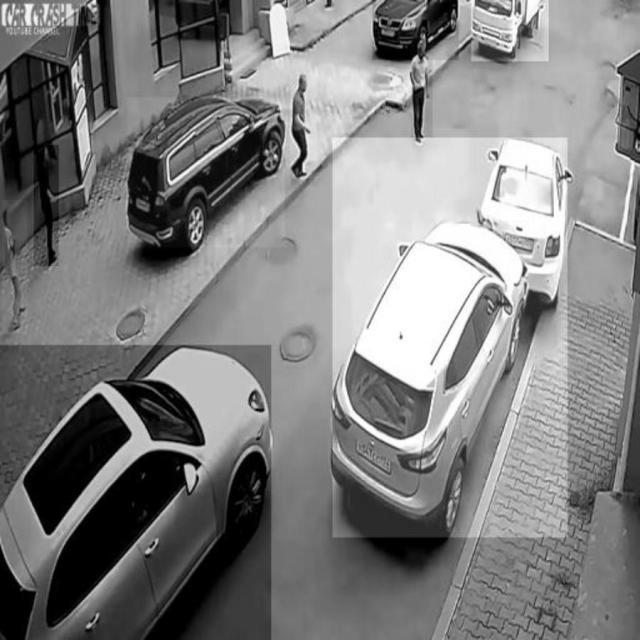accident: (332, 138, 568, 538)
person: (3, 200, 28, 334), (34, 145, 59, 266), (290, 73, 317, 179), (411, 36, 431, 146)
vehicle: (0, 345, 271, 640), (127, 98, 285, 248), (373, 0, 459, 60), (472, 0, 549, 61)
